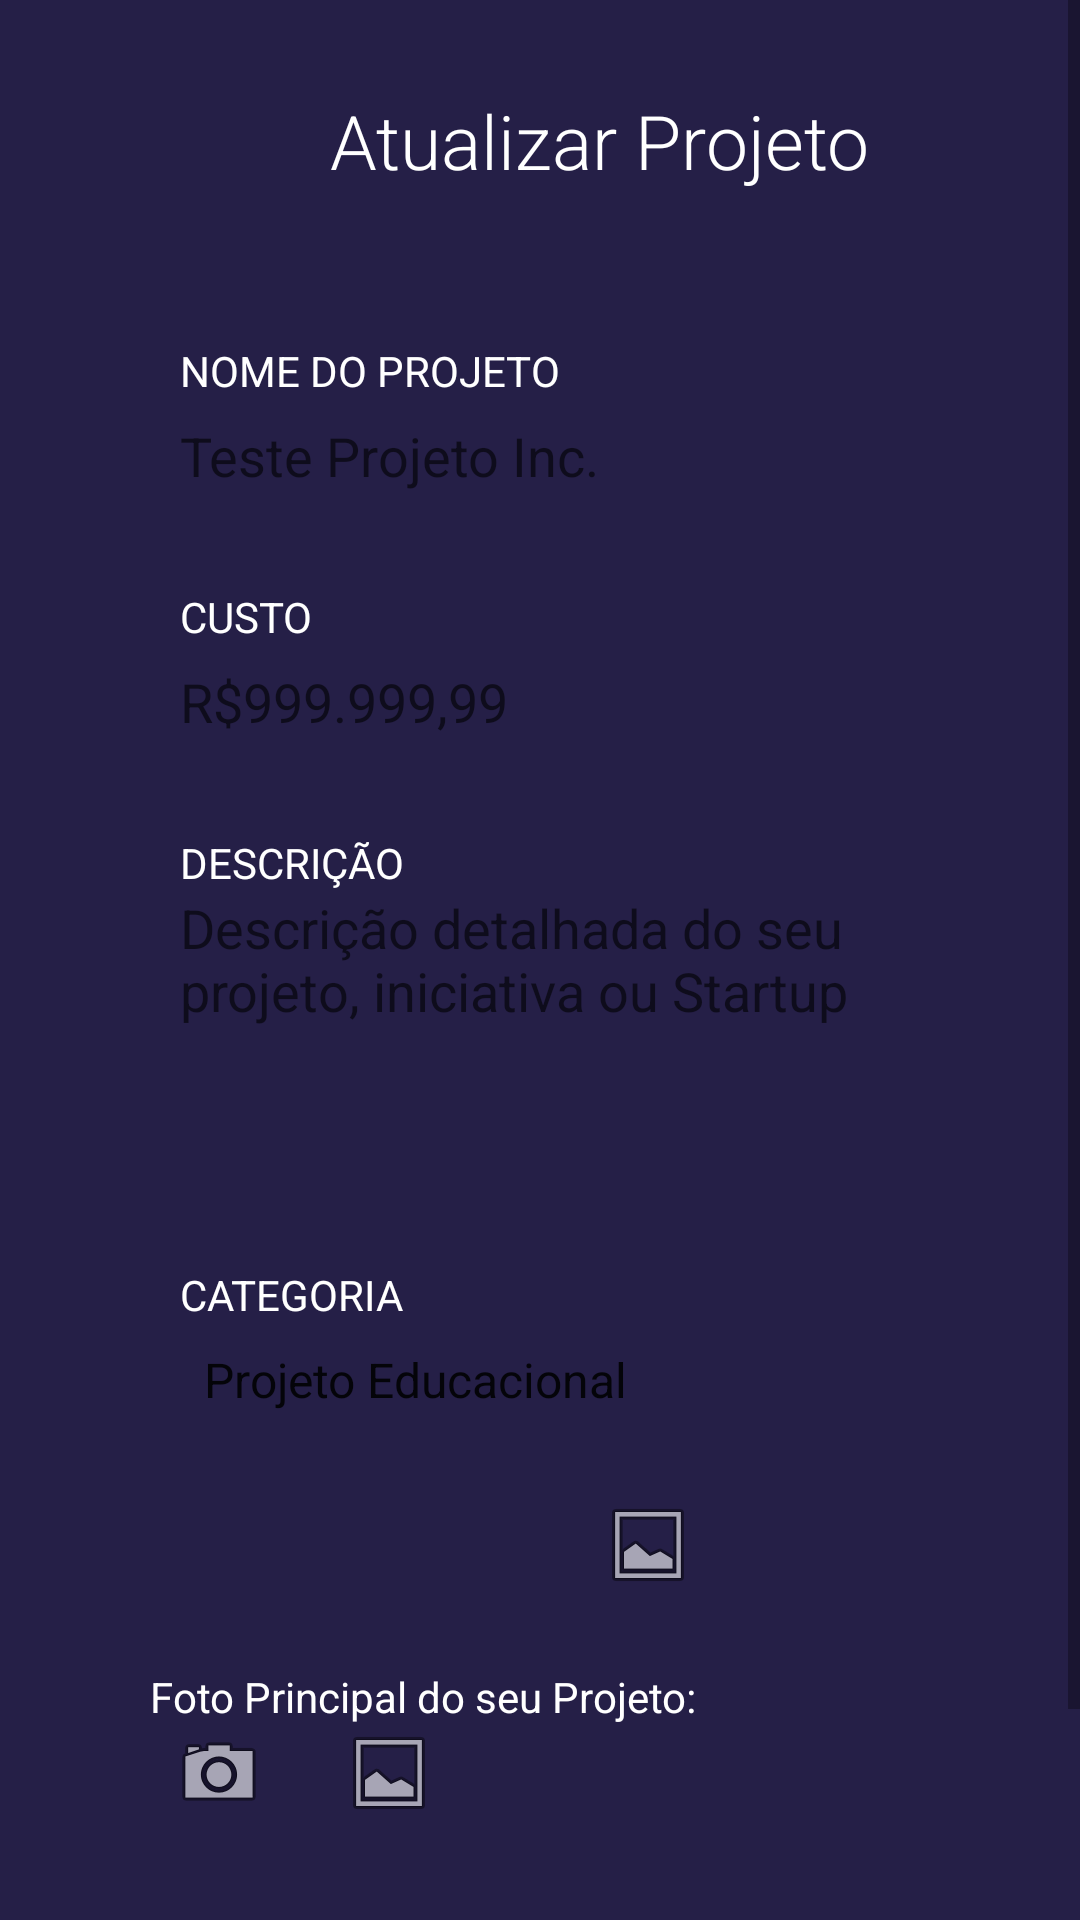

Named icons in this screenshot (1080×1920) and their bounding boxes, (x1, y1, x2, y2):
camera: (183, 1743, 255, 1800)
gallery: (612, 1509, 684, 1581), (353, 1737, 425, 1809)
